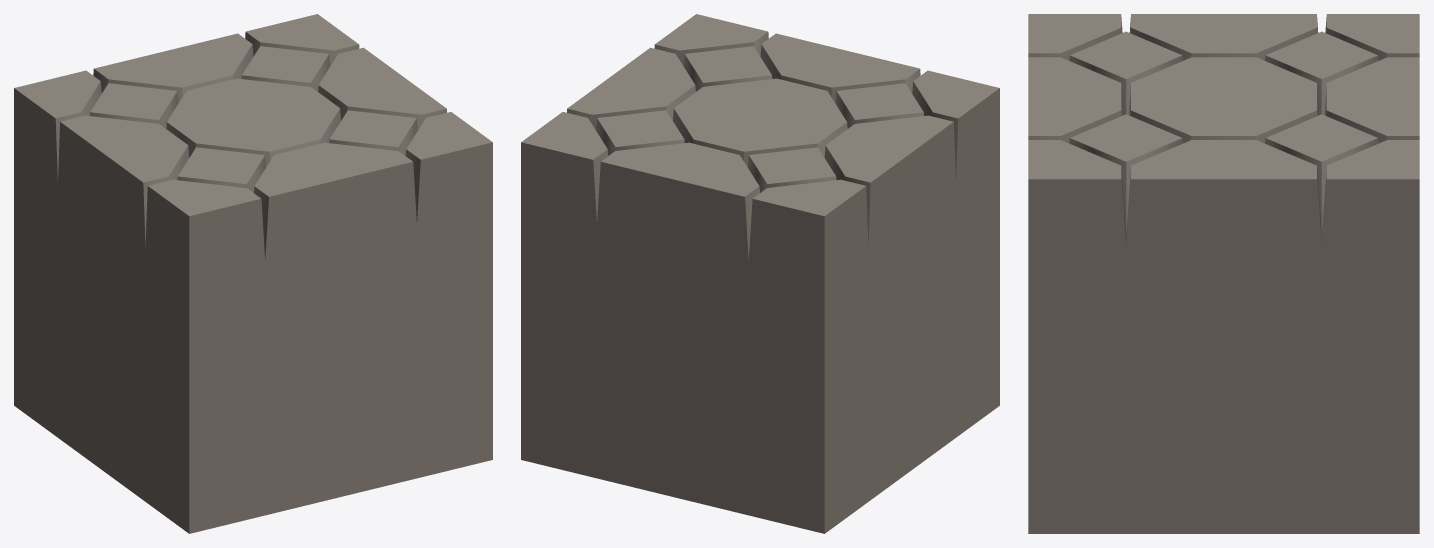
File: floor.glb
3 views of the same model, side by side, from view 1: azimuth 30°, elevation 25°; view 2: azimuth 150°, elevation 25°; view 3: azimuth 270°, elevation 25° (orthographic). The views are drawn at different scales.
Visible parts, largest first — view 1: floor_tile_large; view 2: floor_tile_large; view 3: floor_tile_large.
Boxes of the visible parts, <box> form: floor_tile_large: <box>14,14,492,533</box>; floor_tile_large: <box>521,14,999,533</box>; floor_tile_large: <box>1028,14,1419,533</box>.
Size of the model in its own units: 1 by 1 by 1.
1 material, 1 textured.
